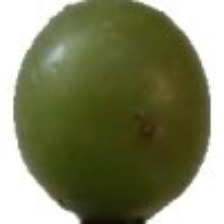grapes: (10, 10, 189, 209)
